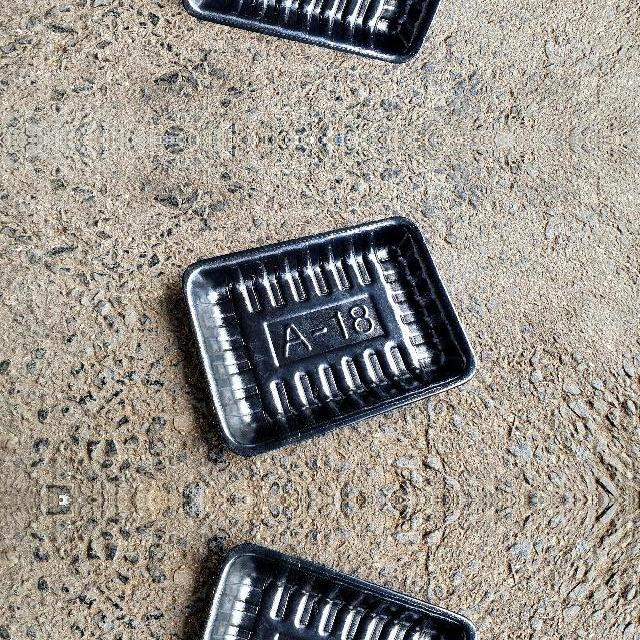Styrofoam: (182, 217, 476, 456), (184, 216, 476, 456), (183, 544, 476, 640), (201, 544, 476, 640), (183, 0, 476, 64), (182, 0, 441, 63)
